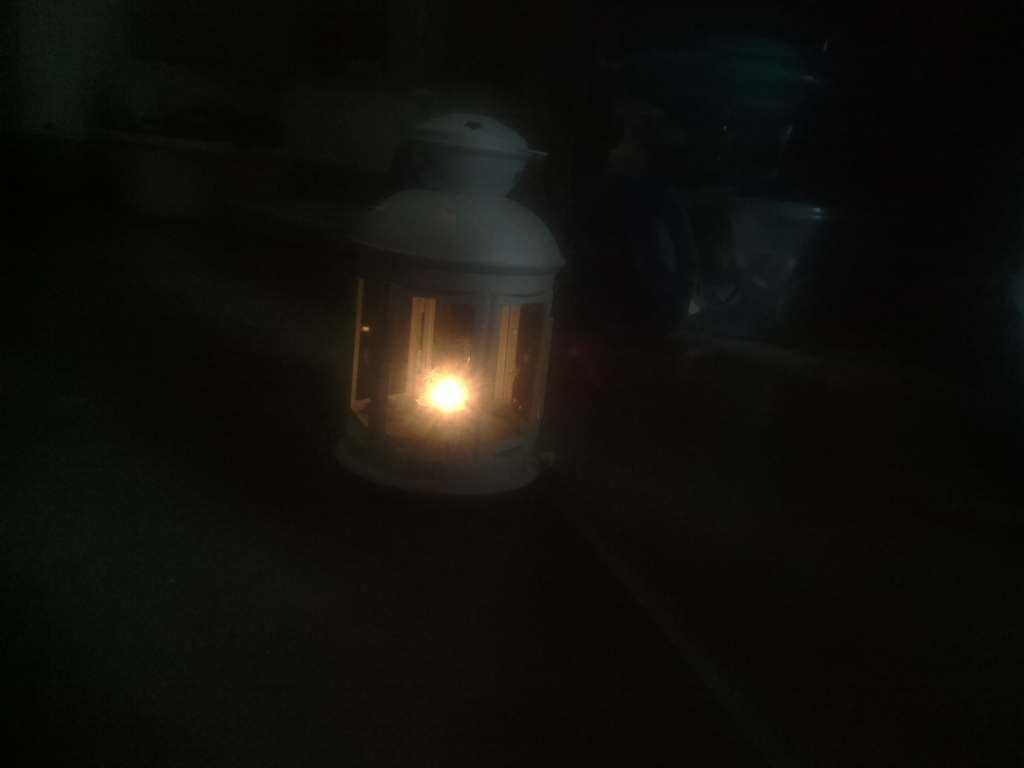fire: (390, 351, 505, 441)
